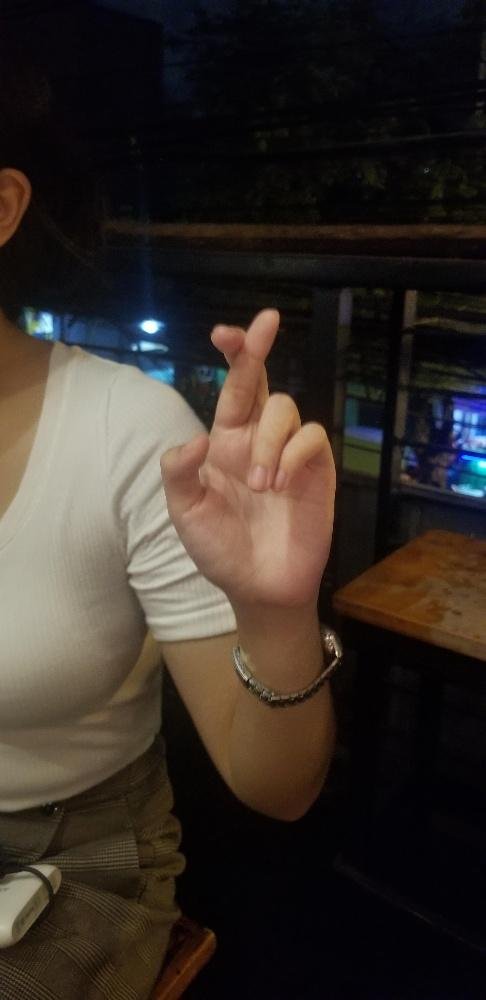r: (159, 303, 338, 608)
